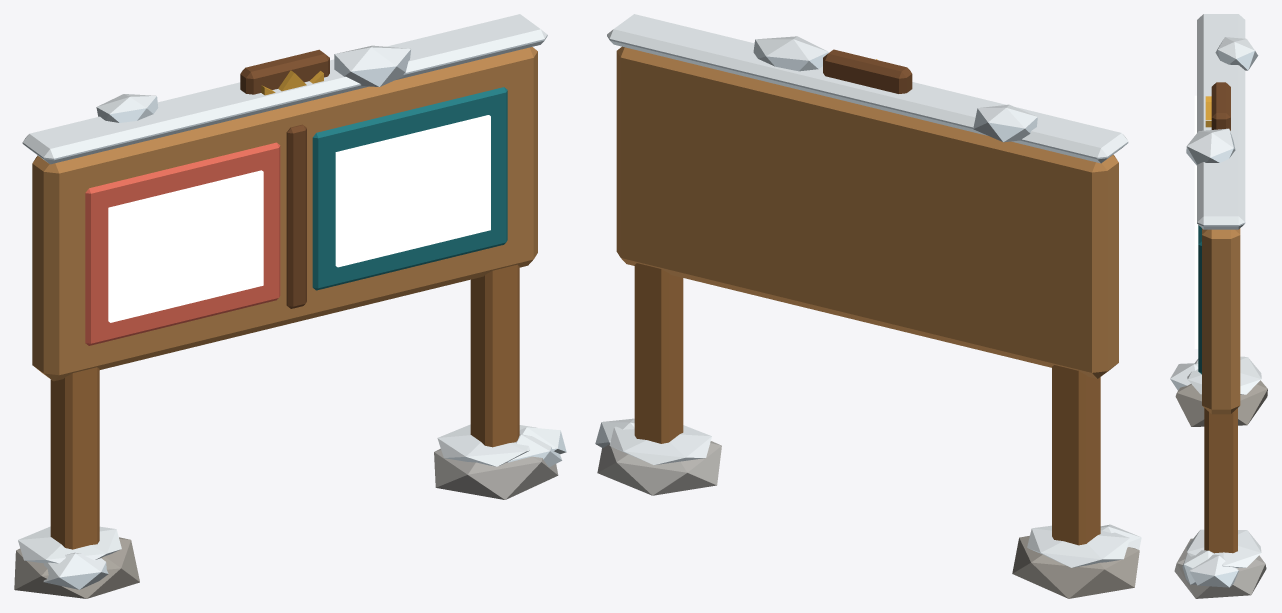
Rendered from match_scoreboard.glb.
3 renders of one model, left to right at view 1: azimuth 30°, elevation 25°; view 2: azimuth 150°, elevation 25°; view 3: azimuth 270°, elevation 25°, orthographic. The views are drawn at different scales.
Visible parts, largest first — view 1: match_scoreboard; view 2: match_scoreboard; view 3: match_scoreboard.
Boxes of the visible parts, <box> form: match_scoreboard: <box>14,14,566,598</box>; match_scoreboard: <box>595,14,1141,598</box>; match_scoreboard: <box>1170,14,1267,598</box>.
Bounding box in the file's own units: 2.19 × 1.86 × 0.406.
